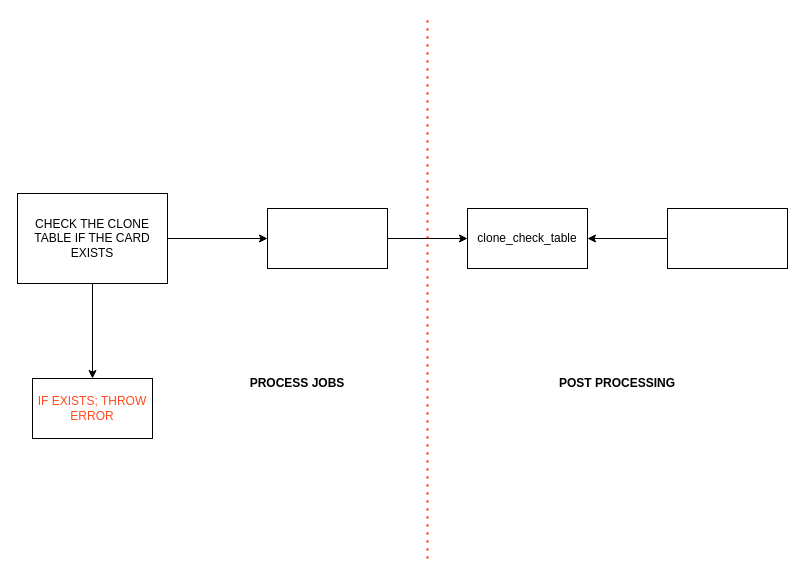
This 805x577 diagram has some shape labels left out. Here are the shapes that lost their labels. From the top down, the centre of each, then its label:
At (x=327, y=238): "READ".
At (x=727, y=238): "WRITE".
